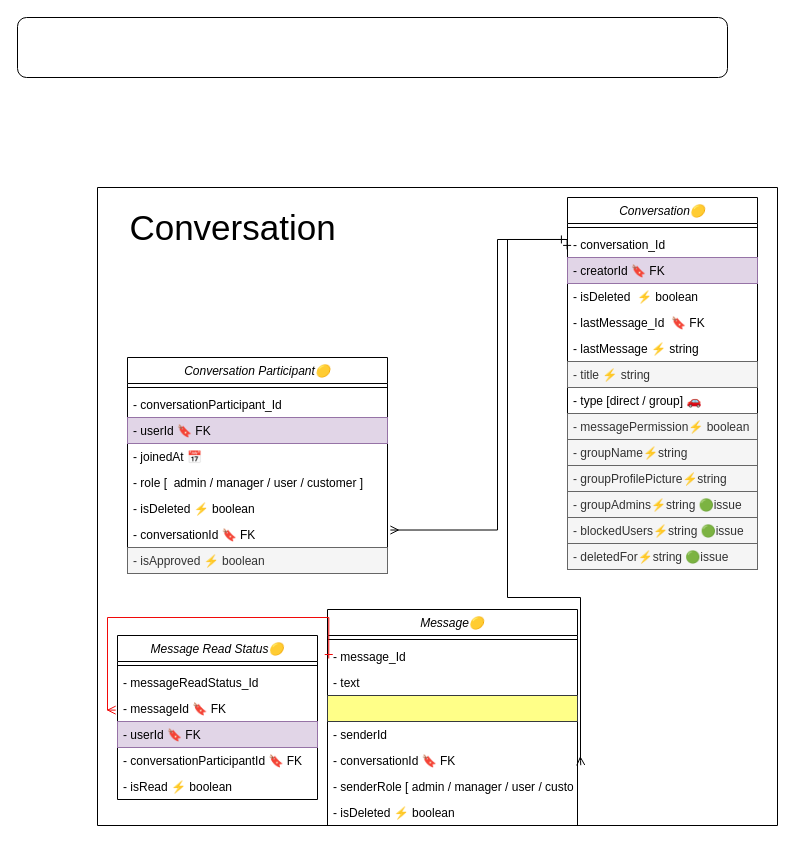
Some shapes in this 795 by 846 pixel diagram are drawn without their labels. Each missing label, with the centre of its shape:
"- attachments []" goes at (x=452, y=708).
"Last Updated at 2 / 08 / 2025" goes at (x=372, y=47).
